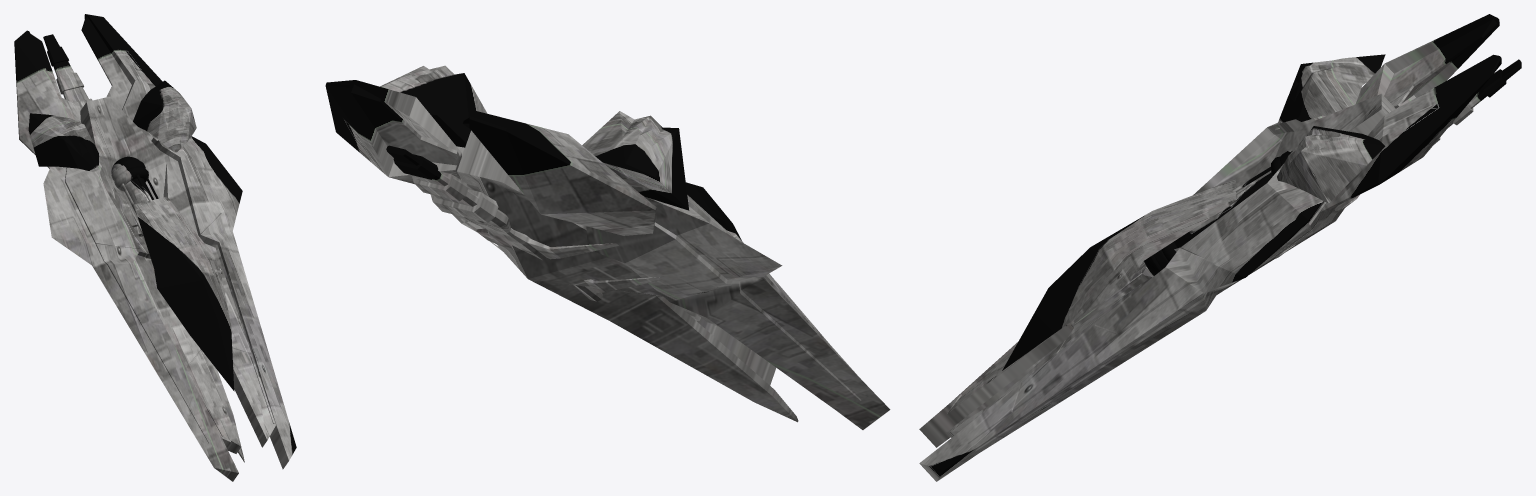
File: weak_open.fbx
3 views of the same model, side by side, from view 1: azimuth 30°, elevation 25°; view 2: azimuth 150°, elevation 25°; view 3: azimuth 270°, elevation 25° (orthographic). The views are drawn at different scales.
Parts seen in each view (by area): view 1: hane:hane:polySurface1; view 2: hane:hane:polySurface1; view 3: hane:hane:polySurface1.
Boxes of the visible parts, left/top/right/bottom form: hane:hane:polySurface1: left=14, top=14, right=296, bottom=481; hane:hane:polySurface1: left=325, top=65, right=890, bottom=429; hane:hane:polySurface1: left=919, top=14, right=1521, bottom=481.
Bounding box in the file's own units: 3.97 × 6.12 × 7.77.
Materials: 1 (1 with a texture image).
